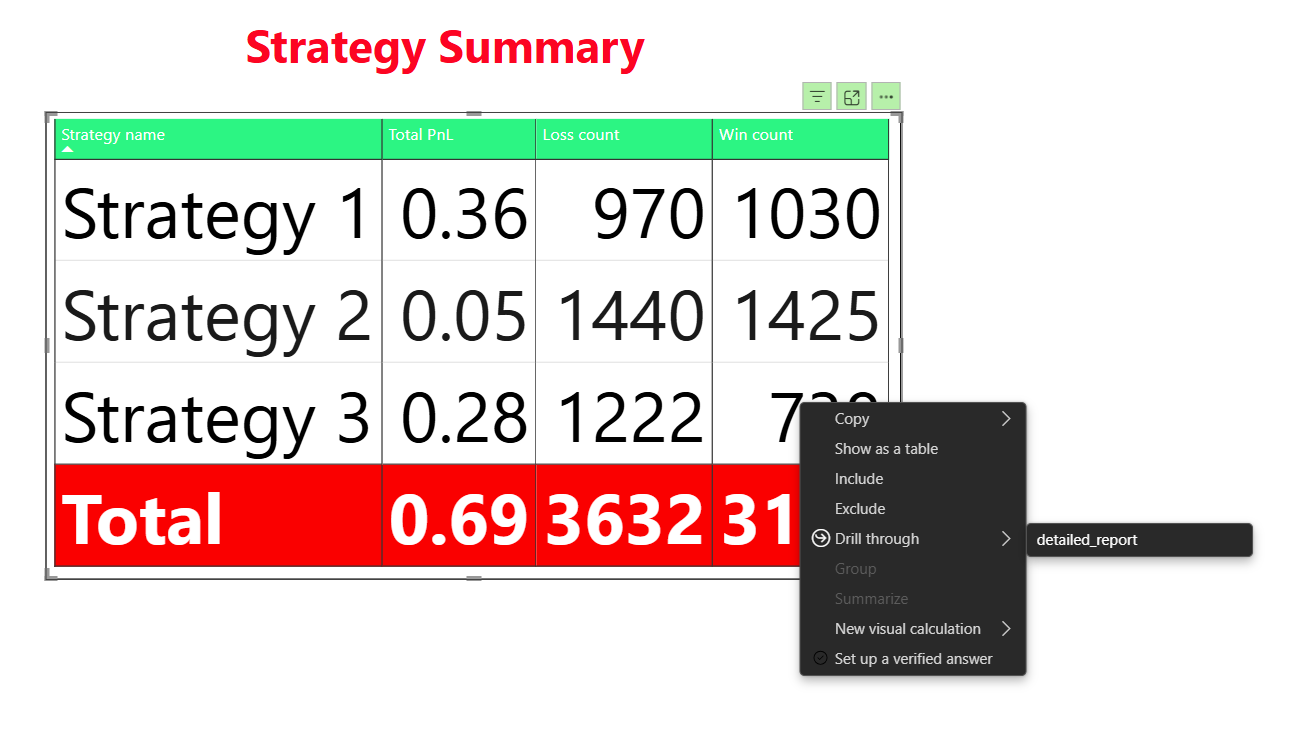

The page's visual inventory and layout, read from the dashboard file:
{"tool":"powerbi","page":{"name":"strategy_summary","canvas":[1280,720],"ordinal":0},"visuals":[{"type":"tableEx","fields":{"Values":["Append1.strategy_name","strategy_2.Total_Pnl","strategy_2.Win_count","strategy_1.Win_count"]},"box":[71.4,114.3,698.6,381.4],"z":0},{"type":"textbox","box":[230,30,344.3,65.7],"z":3}]}

Visuals, with their boxes in screenshot pixels (x1, y1, x2, y2), scaled from the page's 1280x720 canvas onto the 1309x746 screenshot:
tableEx - Append1.strategy_name x strategy_2.Total_Pnl: [73, 118, 787, 514]
textbox: [235, 31, 587, 99]
